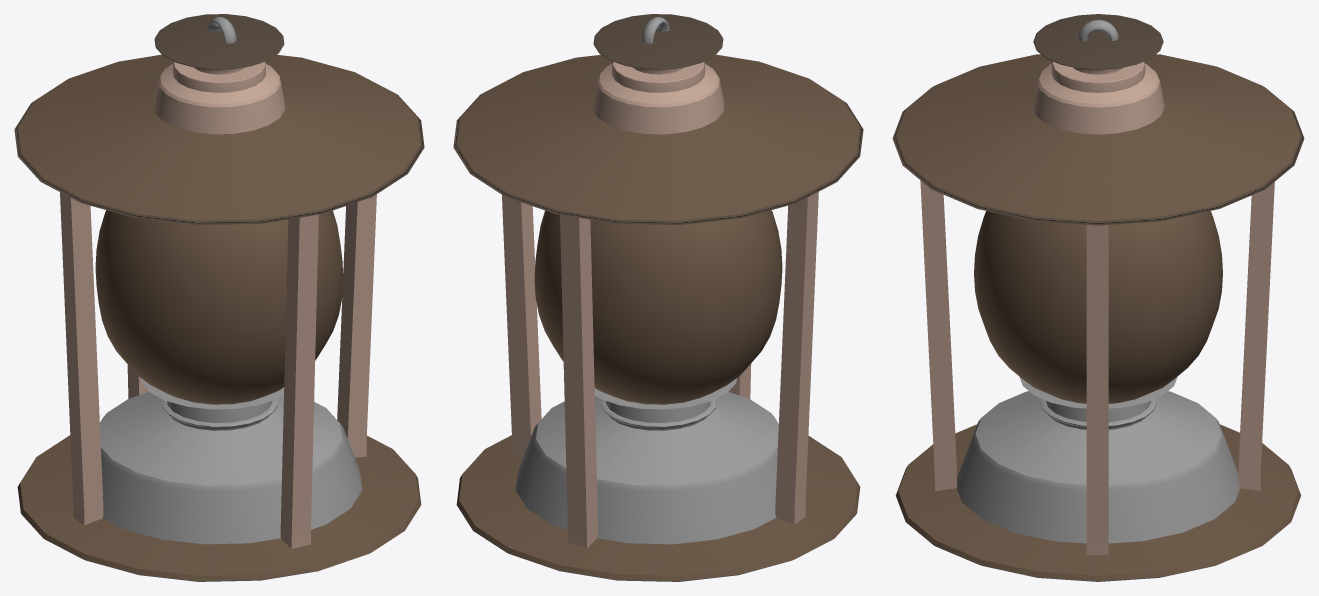
File: rantan.fbx
The picture shows the model from 3 angles, left to right: view 1: azimuth 30°, elevation 25°; view 2: azimuth 150°, elevation 25°; view 3: azimuth 270°, elevation 25°; orthographic projection.
Visible parts, largest first — view 1: pCylinder2, pCylinder1, pSphere1, pCube8, pCube7, pCube2; view 2: pCylinder2, pCylinder1, pSphere1, pCube6, pCube7, pCube2; view 3: pCylinder2, pCylinder1, pSphere1, pCube2, pCube8, pCube6, pTorus1.
Boxes of the visible parts, bbox=[...] form: pCylinder2: bbox=[14, 14, 424, 225]; pCylinder1: bbox=[17, 378, 421, 581]; pSphere1: bbox=[95, 210, 343, 404]; pCube8: bbox=[280, 214, 318, 548]; pCube7: bbox=[60, 192, 103, 525]; pCube2: bbox=[337, 194, 376, 457]; pCylinder2: bbox=[453, 14, 863, 225]; pCylinder1: bbox=[456, 378, 860, 581]; pSphere1: bbox=[534, 210, 782, 404]; pCube6: bbox=[560, 215, 597, 548]; pCube7: bbox=[775, 191, 818, 524]; pCube2: bbox=[502, 195, 541, 456]; pCylinder2: bbox=[892, 14, 1304, 225]; pCylinder1: bbox=[895, 376, 1301, 581]; pSphere1: bbox=[974, 211, 1222, 403]; pCube2: bbox=[1086, 225, 1108, 555]; pCube8: bbox=[920, 180, 956, 490]; pCube6: bbox=[1238, 182, 1274, 490]; pTorus1: bbox=[1078, 19, 1118, 40].
Size of the model in its own units: 18.64 by 23.93 by 18.64.
